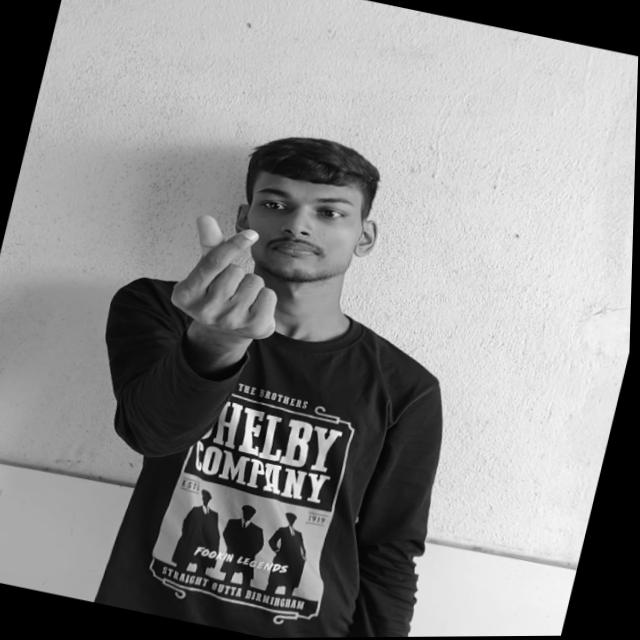Grattitude: (159, 208, 304, 350)
